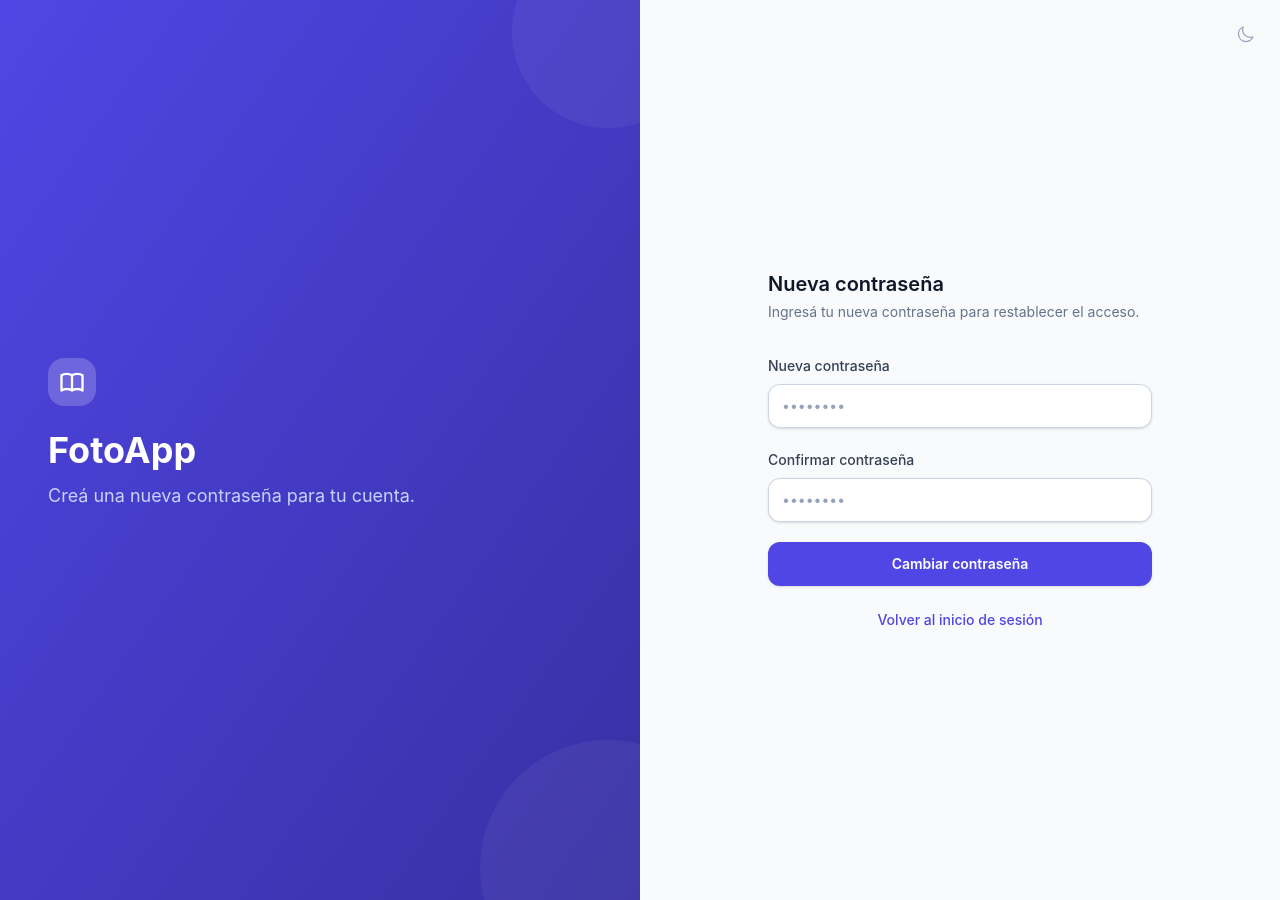
Test: ResetPassword page › shows error on API failure
In the password field labelled "Nueva contraseña": (960, 406) [768,384,1152,428], type "NewPass123!"
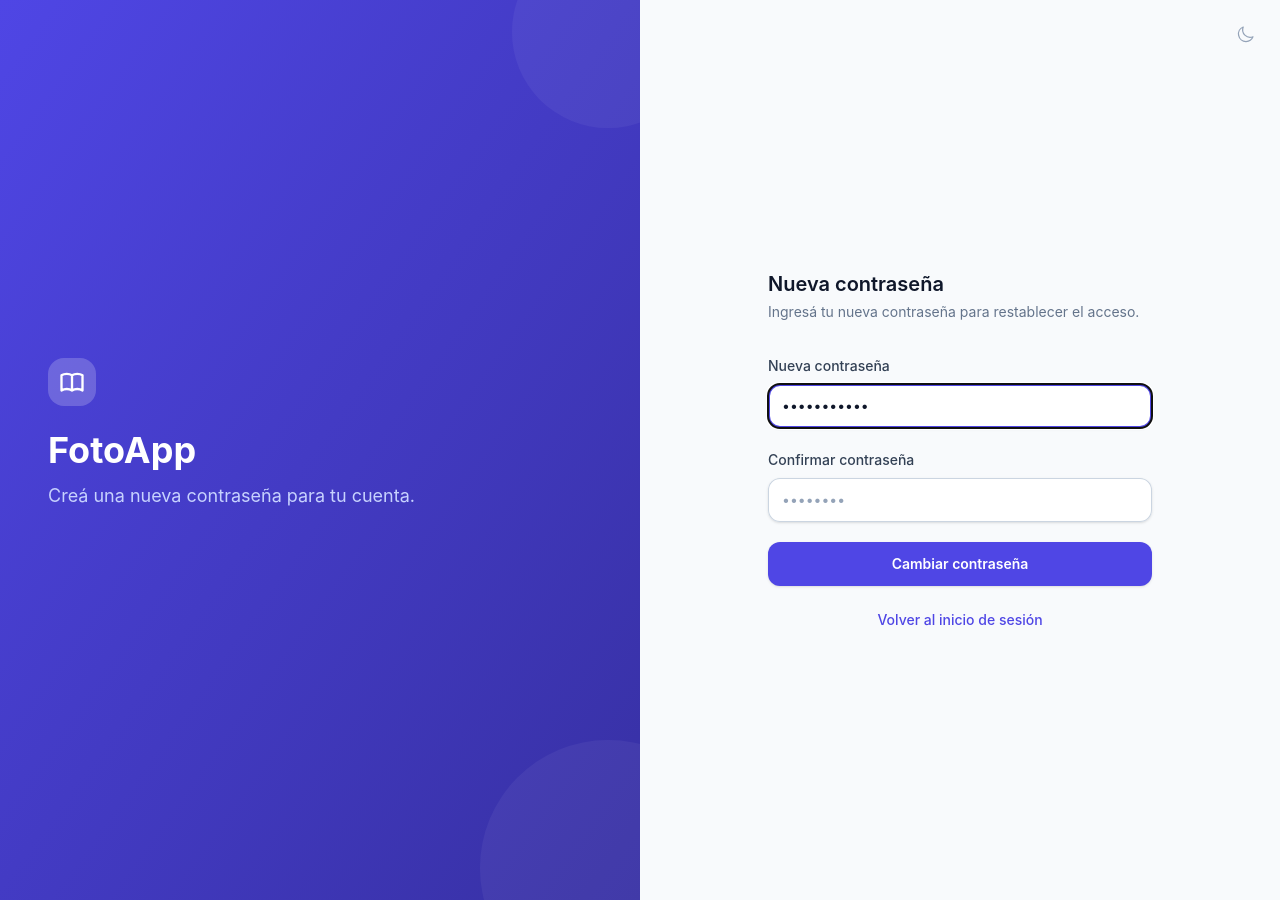
In the password field labelled "Confirmar contraseña": (960, 500) [768,478,1152,522], type "NewPass123!"
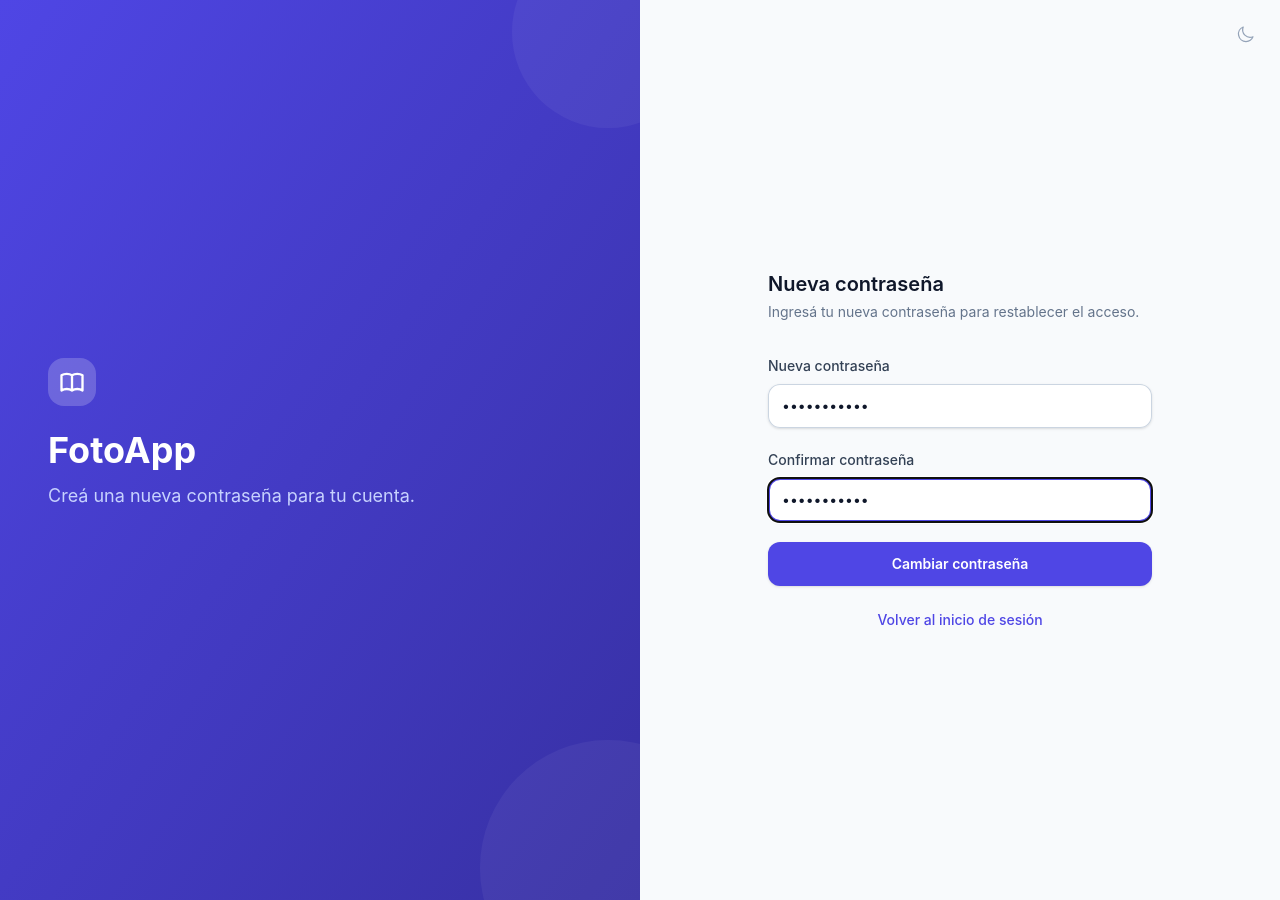
Click the button "Cambiar contraseña": (960, 564) [768,542,1152,586]
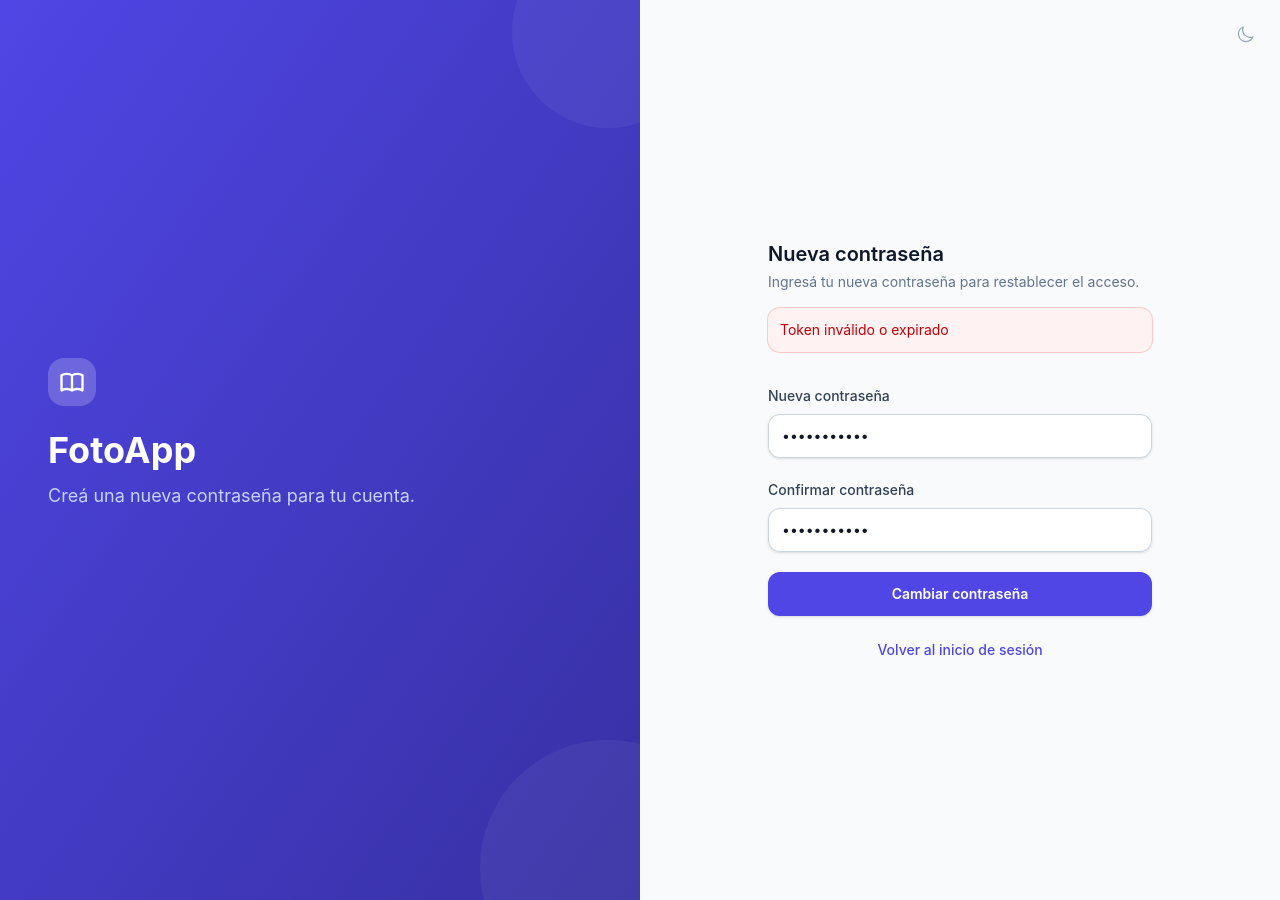
Expected: the text "Token inválido o expirado" is shown, [768,308,1152,352]
